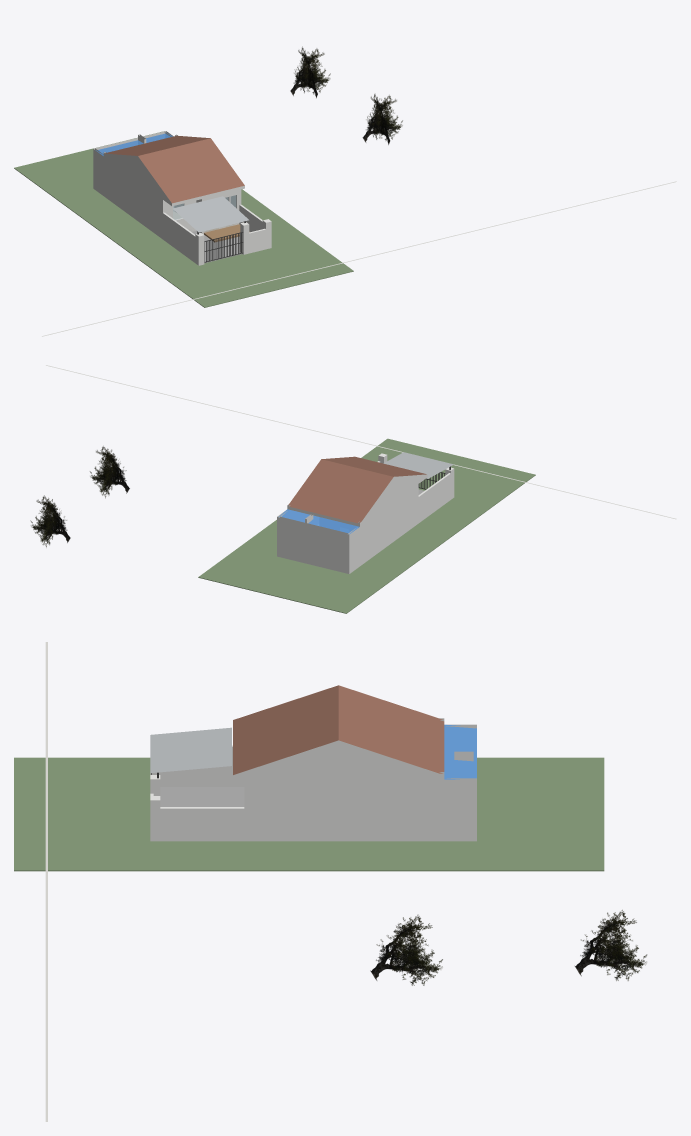
The picture shows the model from 3 angles, top to bottom: view 1: azimuth 30°, elevation 25°; view 2: azimuth 150°, elevation 25°; view 3: azimuth 270°, elevation 25°; orthographic projection. The views are drawn at different scales.
Parts seen in each view (by area): view 1: STATIC_main_tabrak, TREE_D_island_tree_01.001, TREE_D_island_tree_01, STATIC_ground_lewat; view 2: STATIC_main_tabrak, TREE_D_island_tree_01.001, TREE_D_island_tree_01, STATIC_ground_lewat; view 3: STATIC_main_tabrak, TREE_D_island_tree_01, TREE_D_island_tree_01.001, STATIC_ground_lewat.
Boxes of the visible parts, x1=… form: STATIC_main_tabrak: x1=14, y1=131, x2=353, y2=307; TREE_D_island_tree_01.001: x1=290, y1=46, x2=330, y2=98; TREE_D_island_tree_01: x1=362, y1=94, x2=402, y2=144; STATIC_ground_lewat: x1=42, y1=181, x2=676, y2=336; STATIC_main_tabrak: x1=198, y1=438, x2=535, y2=613; TREE_D_island_tree_01.001: x1=30, y1=495, x2=70, y2=547; TREE_D_island_tree_01: x1=90, y1=446, x2=129, y2=498; STATIC_ground_lewat: x1=46, y1=365, x2=676, y2=519; STATIC_main_tabrak: x1=14, y1=685, x2=604, y2=871; TREE_D_island_tree_01: x1=370, y1=915, x2=442, y2=985; TREE_D_island_tree_01.001: x1=575, y1=910, x2=646, y2=980; STATIC_ground_lewat: x1=45, y1=642, x2=47, y2=1121.
Size of what is drawn, in the model's own units: 50 by 6.28 by 29.2.
12 materials, 1 textured.
